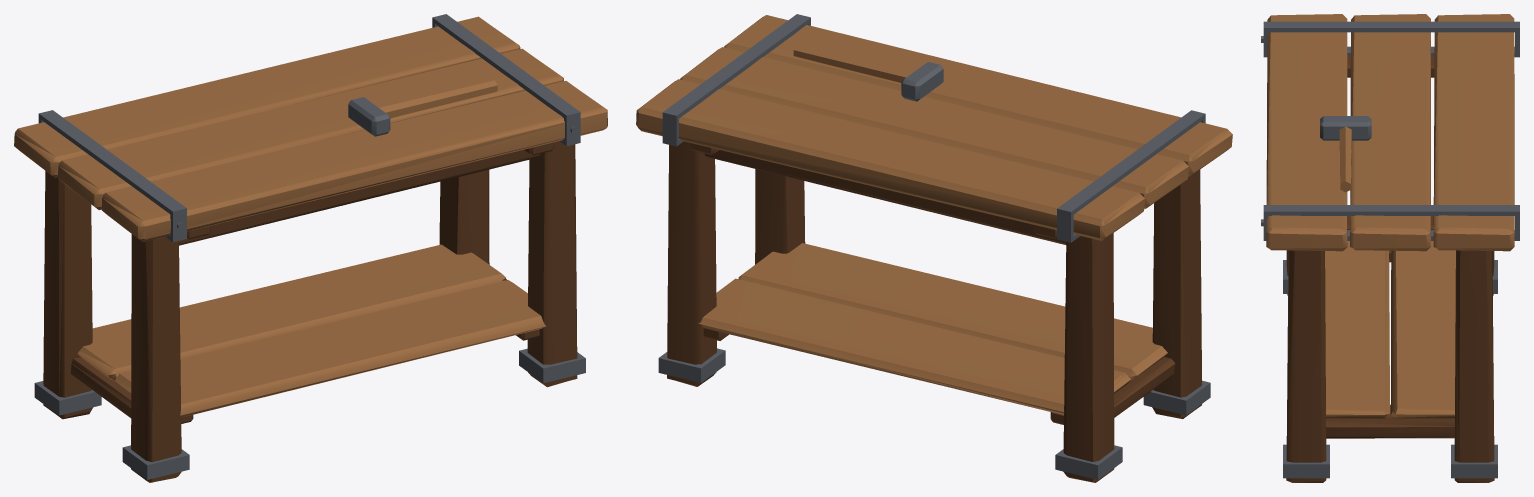
File: smith_workbench.glb
3 renders of one model, left to right at view 1: azimuth 30°, elevation 25°; view 2: azimuth 150°, elevation 25°; view 3: azimuth 270°, elevation 25°, orthographic. The views are drawn at different scales.
Visible parts, largest first — view 1: top_plank_2, shelf_plank_1, top_plank_0, shelf_plank_0, top_plank_1, frame_leg_front_left, frame_leg_front_right, frame_leg_back_left, frame_apron_front, frame_leg_back_right, strap_l_band, strap_r_band (+6 smaller); view 2: top_plank_0, shelf_plank_0, top_plank_1, shelf_plank_1, top_plank_2, frame_leg_back_left, frame_leg_back_right, frame_leg_front_left, frame_apron_back, frame_leg_front_right, strap_l_band, strap_r_band (+6 smaller); view 3: top_plank_0, top_plank_1, top_plank_2, shelf_plank_0, shelf_plank_1, frame_leg_front_right, frame_leg_back_right, strap_l_band, strap_r_band, frame_side_rail_right, hammer_head, frame_foot_band_front_right (+2 smaller).
Part boxes in pixels (left/top/right/bottom): top_plank_2: left=101, top=81, right=607, bottom=241; shelf_plank_1: left=115, top=280, right=546, bottom=417; top_plank_0: left=14, top=16, right=520, bottom=177; shelf_plank_0: left=77, top=244, right=505, bottom=380; top_plank_1: left=57, top=48, right=563, bottom=209; frame_leg_front_left: left=131, top=234, right=181, bottom=482; frame_leg_front_right: left=527, top=141, right=577, bottom=387; frame_leg_back_left: left=43, top=171, right=92, bottom=419; frame_apron_front: left=179, top=150, right=540, bottom=245; frame_leg_back_right: left=439, top=169, right=489, bottom=264; strap_l_band: left=38, top=110, right=186, bottom=242; strap_r_band: left=432, top=14, right=580, bottom=146; top_plank_0: left=636, top=79, right=1145, bottom=240; shelf_plank_0: left=698, top=278, right=1130, bottom=414; top_plank_1: left=680, top=47, right=1188, bottom=208; shelf_plank_1: left=738, top=243, right=1167, bottom=379; top_plank_2: left=724, top=15, right=1232, bottom=176; frame_leg_back_left: left=1063, top=233, right=1114, bottom=482; frame_leg_back_right: left=667, top=141, right=716, bottom=386; frame_leg_front_left: left=1152, top=169, right=1201, bottom=418; frame_apron_back: left=704, top=150, right=1066, bottom=244; frame_leg_front_right: left=755, top=169, right=805, bottom=264; strap_l_band: left=1057, top=110, right=1205, bottom=242; strap_r_band: left=662, top=14, right=810, bottom=146; top_plank_0: left=1433, top=14, right=1514, bottom=251; top_plank_1: left=1350, top=14, right=1430, bottom=251; top_plank_2: left=1266, top=14, right=1347, bottom=251; shelf_plank_0: left=1391, top=241, right=1455, bottom=418; shelf_plank_1: left=1325, top=241, right=1389, bottom=418; frame_leg_front_right: left=1286, top=250, right=1326, bottom=482; frame_leg_back_right: left=1454, top=250, right=1494, bottom=482; strap_l_band: left=1261, top=21, right=1519, bottom=57; strap_r_band: left=1261, top=205, right=1519, bottom=240; frame_side_rail_right: left=1326, top=417, right=1454, bottom=438; hammer_head: left=1320, top=116, right=1371, bottom=140; frame_foot_band_front_right: left=1283, top=444, right=1329, bottom=478.
Size of the model in its own units: 1.5 by 0.907 by 0.7512.
